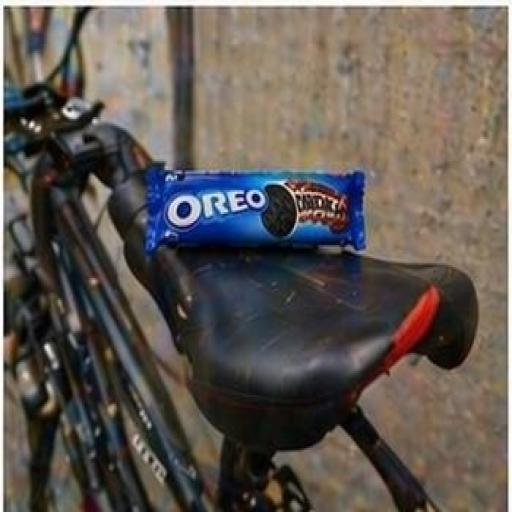oreo: (112, 63, 410, 330)
